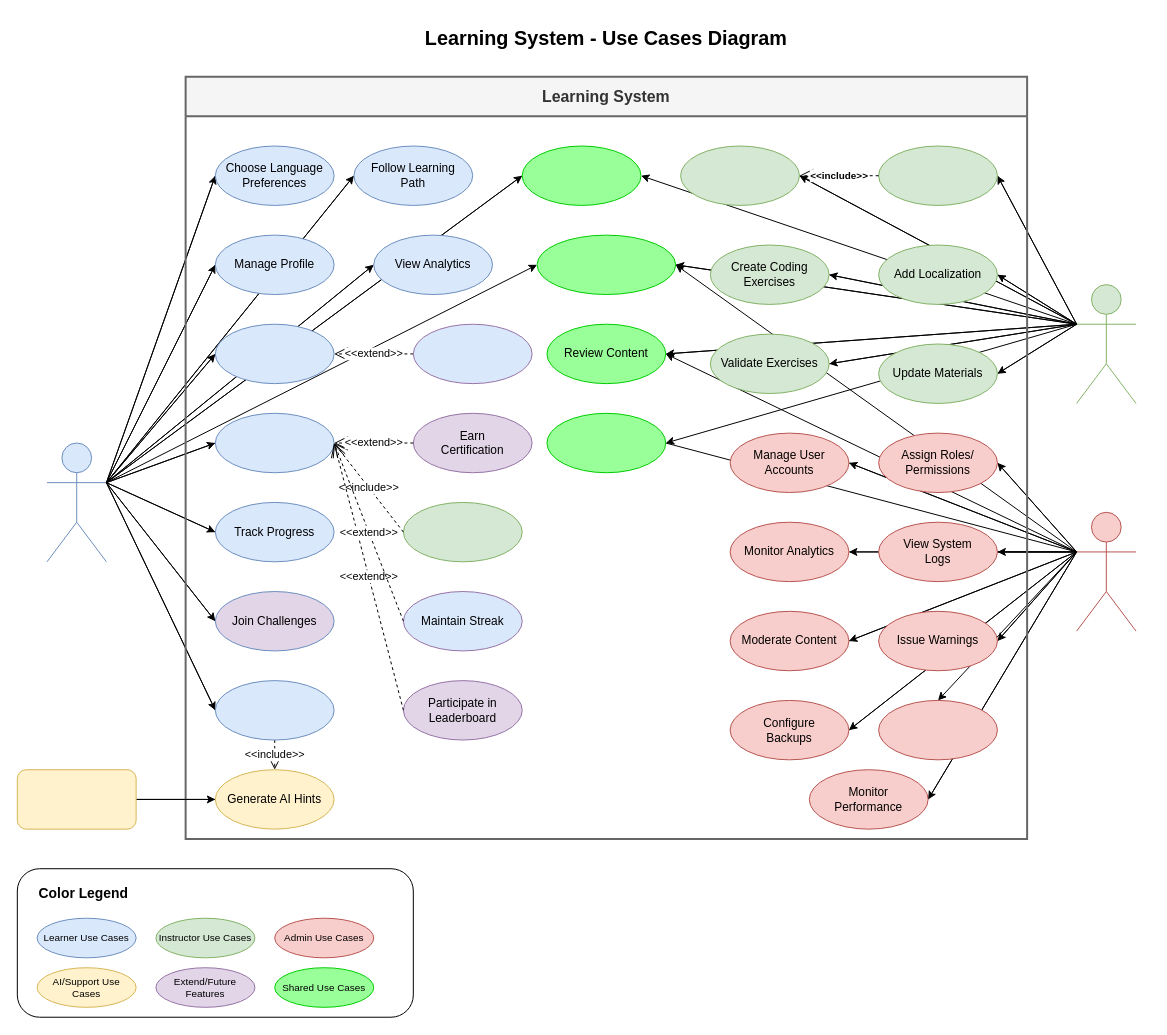
The diagram is 1167 pixels wide and 1035 high, and some of its shapes have lost their labels. The shapes that lost their labels are listed below. From the top down, each one's centre as x and y in pixels, then its label:
At pixel 581 175: "Register/Login".
At pixel 739 175: "Create Course".
At pixel 937 175: "Manage Lessons".
At pixel 606 264: "Categorize Exercises by Difficulty".
At pixel 274 353: "View Lesson Content".
At pixel 472 353: "View Interactive Chat".
At pixel 1106 343: "Content Creator/ Instructor".
At pixel 274 442: "Complete Exercises".
At pixel 606 442: "Remove Content".
At pixel 76 502: "Learner".
At pixel 462 531: "Earn Rewards (XP, Badges)".
At pixel 1106 571: "Administrator".
At pixel 274 710: "Practice Coding (Monaco Editor)".
At pixel 937 729: "Manage Data Security".
At pixel 76 799: "AI System".
